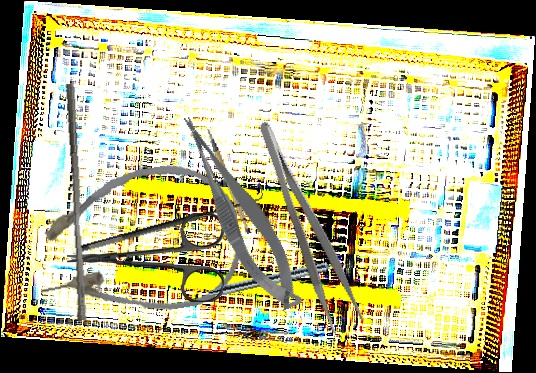Cannula: (25, 155, 250, 330)
Dressing Forceps: (252, 110, 368, 338)
Handpiece: (207, 255, 354, 302)
Hook Surgical: (75, 181, 266, 256)
Iris Scissors: (66, 210, 225, 303)
Micro Scissor: (173, 102, 309, 321)
Pusher: (56, 83, 95, 321)
Scalpel Handle: (206, 124, 253, 238)
